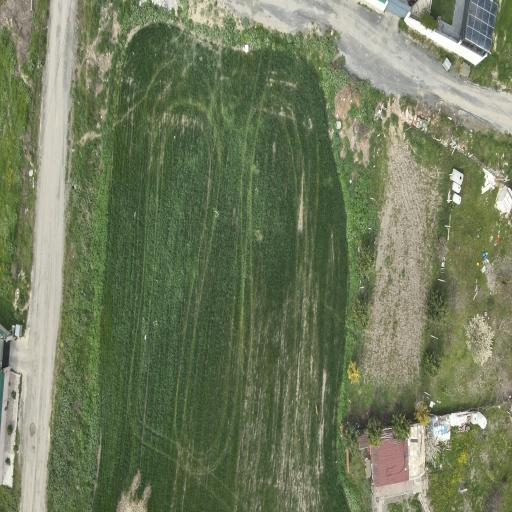car: (408, 0, 417, 6)
